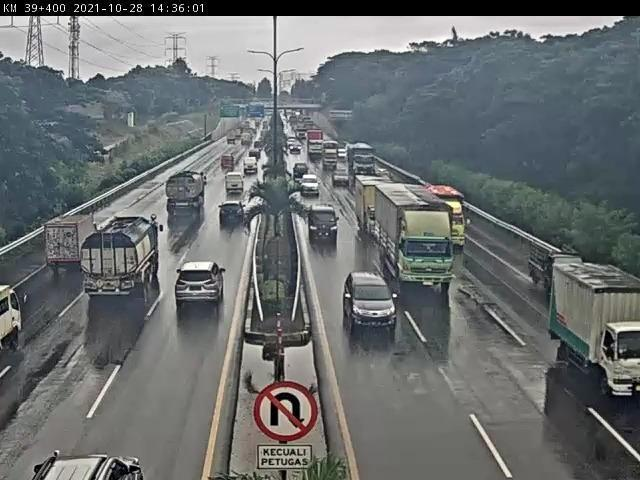car: (157, 268, 226, 340), (32, 449, 150, 480), (523, 239, 556, 283), (363, 280, 391, 328), (208, 211, 246, 245), (310, 197, 328, 230), (295, 167, 319, 185), (322, 145, 336, 170), (332, 169, 348, 186), (291, 143, 304, 155), (220, 160, 231, 174), (296, 161, 307, 175), (251, 149, 260, 165), (245, 165, 254, 179), (127, 373, 129, 382)
truck: (548, 265, 640, 368), (83, 218, 156, 318), (373, 177, 443, 270), (35, 212, 73, 283), (415, 170, 451, 234), (2, 285, 33, 353), (166, 159, 196, 224), (347, 148, 371, 175), (223, 175, 244, 204)
